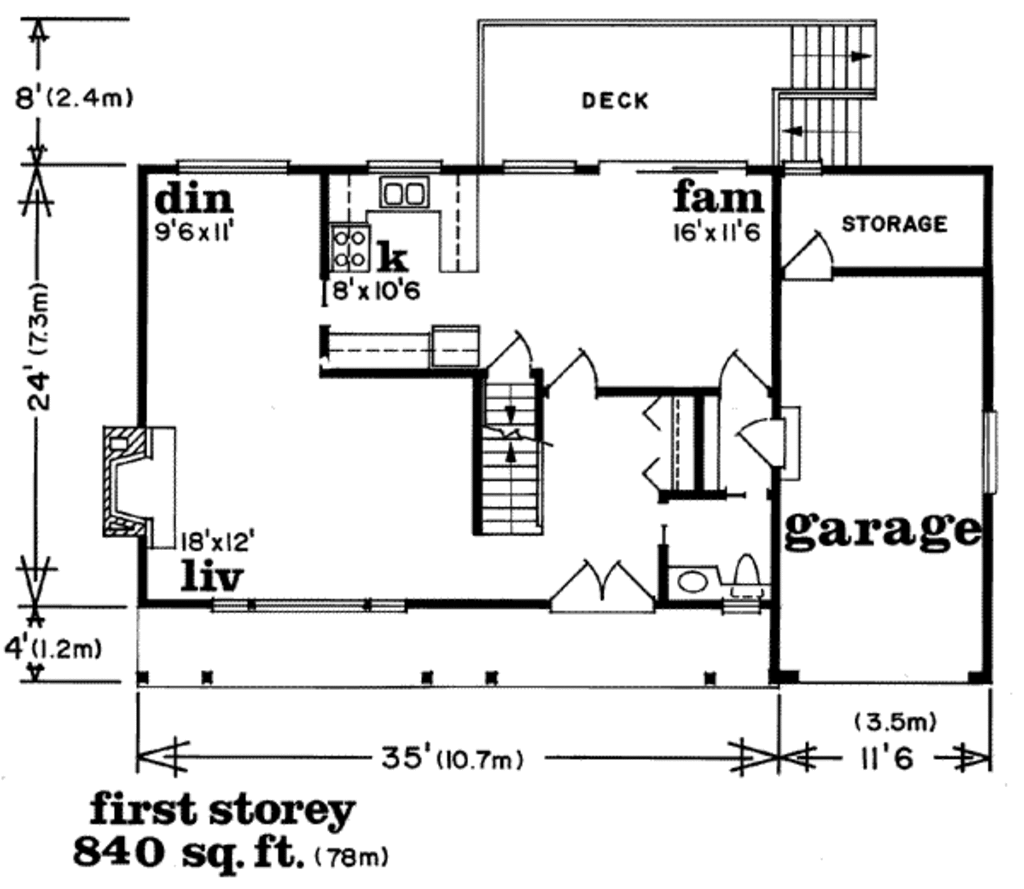door: (546, 561, 665, 619), (739, 410, 788, 471), (776, 229, 831, 282), (480, 324, 533, 374), (548, 348, 603, 394), (712, 352, 779, 389)
stairs: (769, 19, 886, 164), (469, 380, 546, 539)
twin_sink: (372, 178, 432, 213)
windows: (198, 593, 409, 616), (171, 153, 293, 183), (494, 153, 581, 183), (976, 405, 1001, 500), (357, 155, 453, 178)
